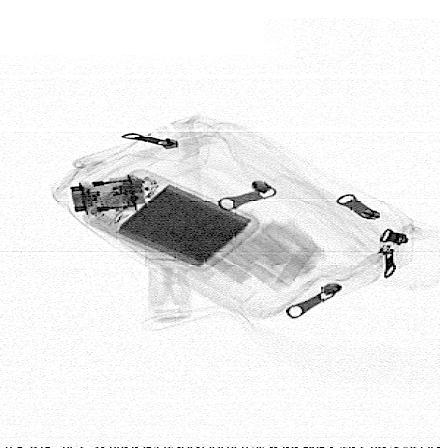Powerbank: (81, 169, 260, 272)
